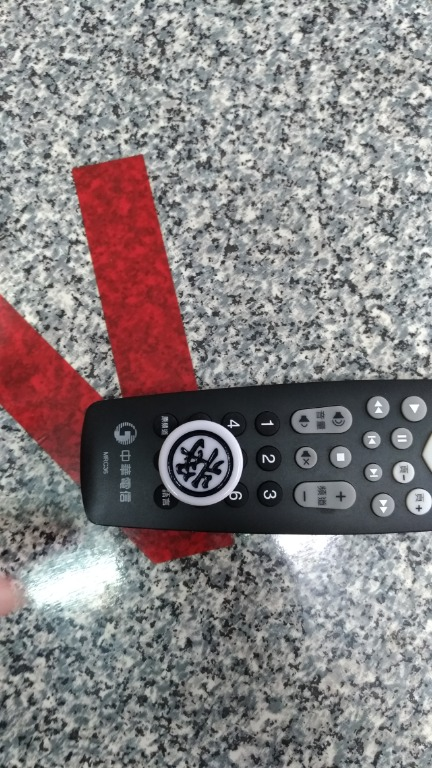b-king: (133, 404, 266, 523)
